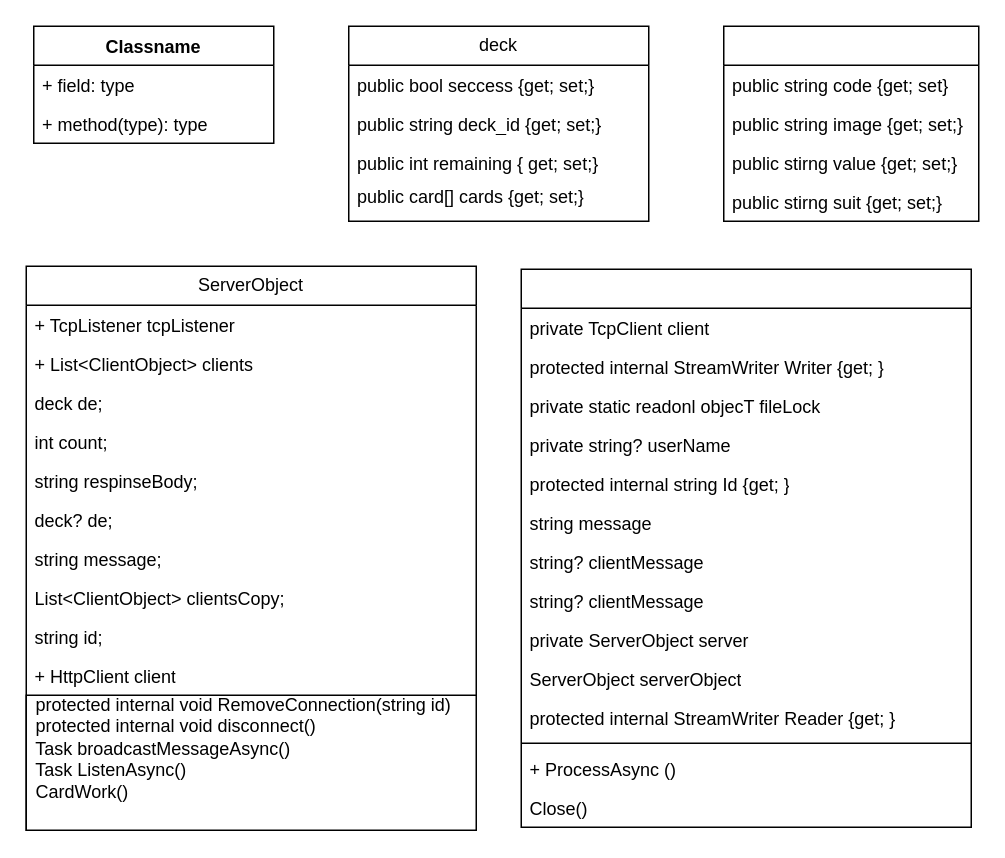
Some shapes in this 1005 by 858 pixel diagram are drawn without their labels. The box of each missing label's shape, as (x1, y1, x2, y2) in pixels:
card: (722, 25, 979, 221)
ClientObject: (520, 268, 971, 827)
